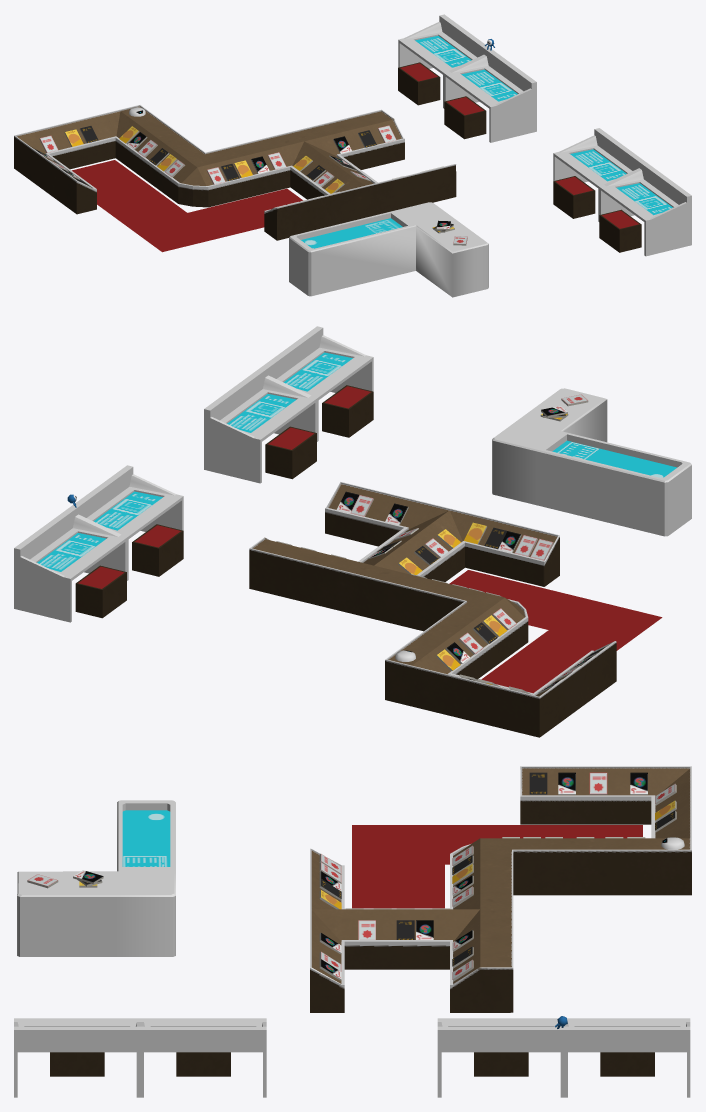
File: Book Tile.fbx
3 views of the same model, one above another, from view 1: azimuth 30°, elevation 25°; view 2: azimuth 150°, elevation 25°; view 3: azimuth 270°, elevation 25° (orthographic). The views are drawn at different scales.
Visible parts, largest first — view 1: BookStore002; view 2: BookStore002; view 3: BookStore002.
Boxes of the visible parts, x1,y1,x2,y2 form: BookStore002: (14, 14, 691, 297); BookStore002: (14, 326, 691, 737); BookStore002: (14, 766, 691, 1097).
Size of the model in its own units: 357 by 48.88 by 355.
1 material, 1 textured.
